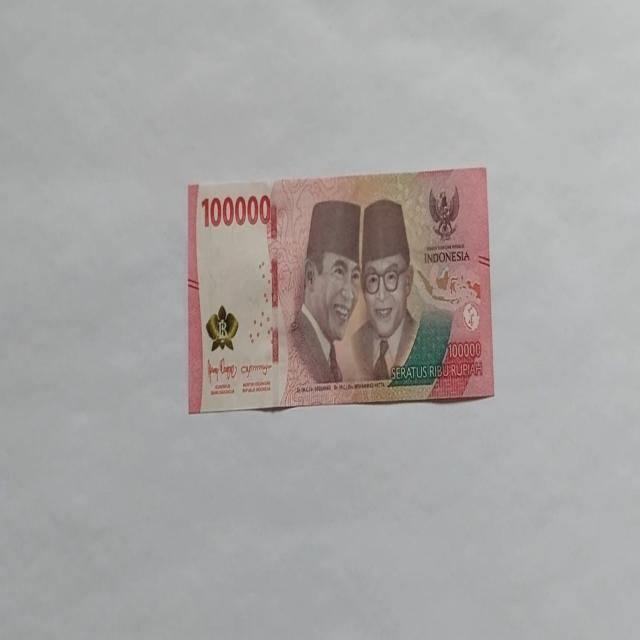seratus ribu rupiah: (186, 167, 494, 413)
